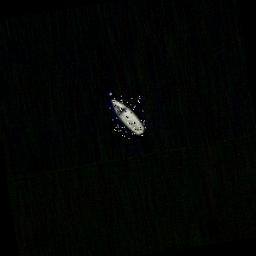boat: (108, 93, 148, 141)
